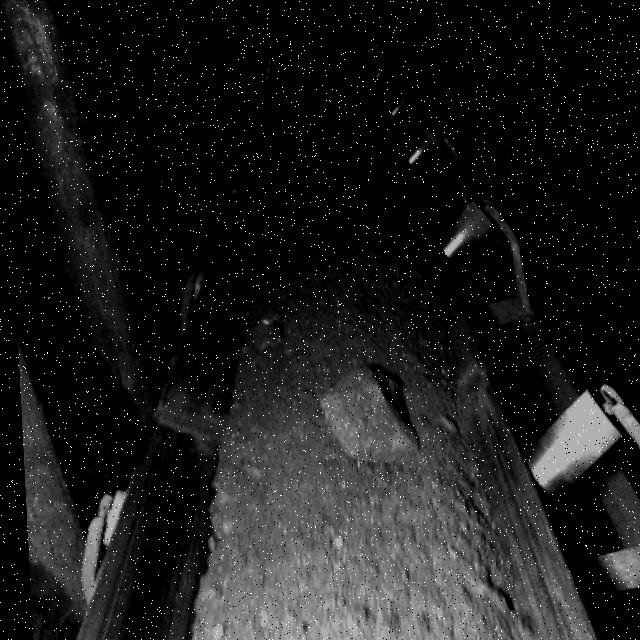large_sized_coal: (316, 371, 416, 459)
